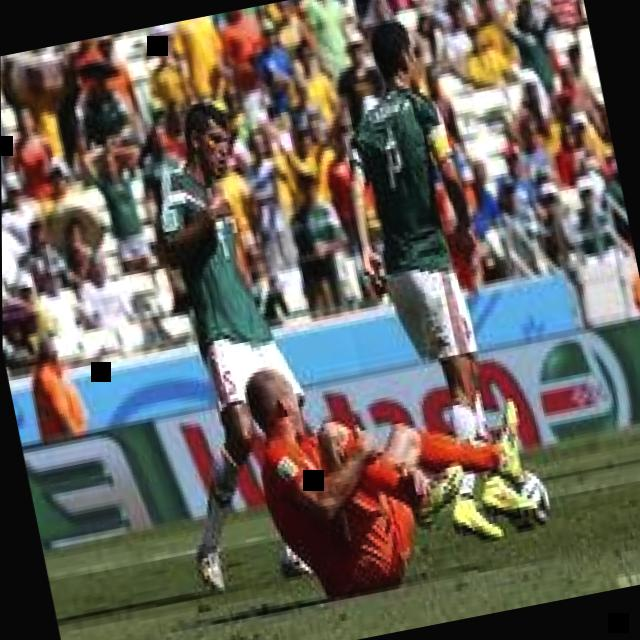Fall-Detected: (216, 298, 575, 606)
